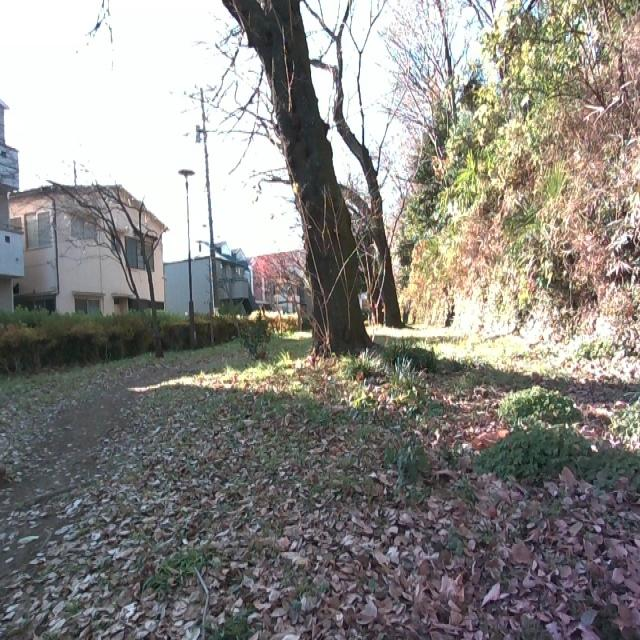artifact: (0, 92, 176, 320), (165, 243, 262, 329), (179, 162, 200, 364)
bush: (236, 316, 284, 382)
tree: (220, 0, 380, 362), (312, 0, 416, 332)
